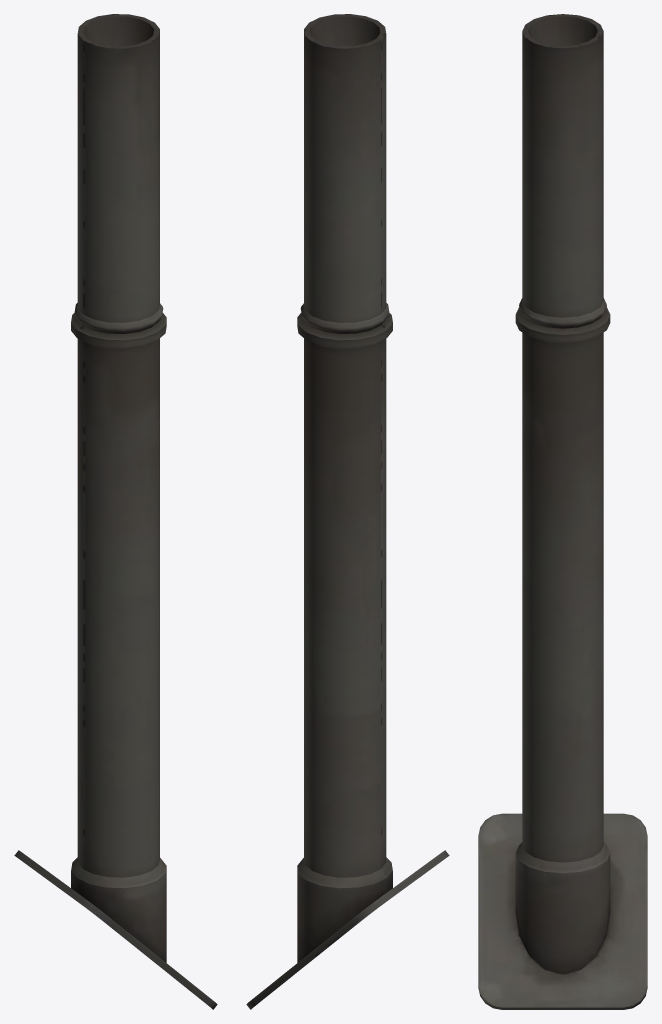
3 renders of one model, left to right at view 1: azimuth 30°, elevation 25°; view 2: azimuth 150°, elevation 25°; view 3: azimuth 270°, elevation 25°, orthographic.
Parts seen in each view (by area): view 1: body0_model0_lod0_mesh0; view 2: body0_model0_lod0_mesh0; view 3: body0_model0_lod0_mesh0.
Part boxes in pixels (bbox=[...]): body0_model0_lod0_mesh0: bbox=[14, 14, 217, 1009]; body0_model0_lod0_mesh0: bbox=[246, 14, 449, 1009]; body0_model0_lod0_mesh0: bbox=[478, 14, 647, 1009].
Size of the model in its own units: 39.88 by 277 by 44.71.
Materials: 1 (1 with a texture image).
